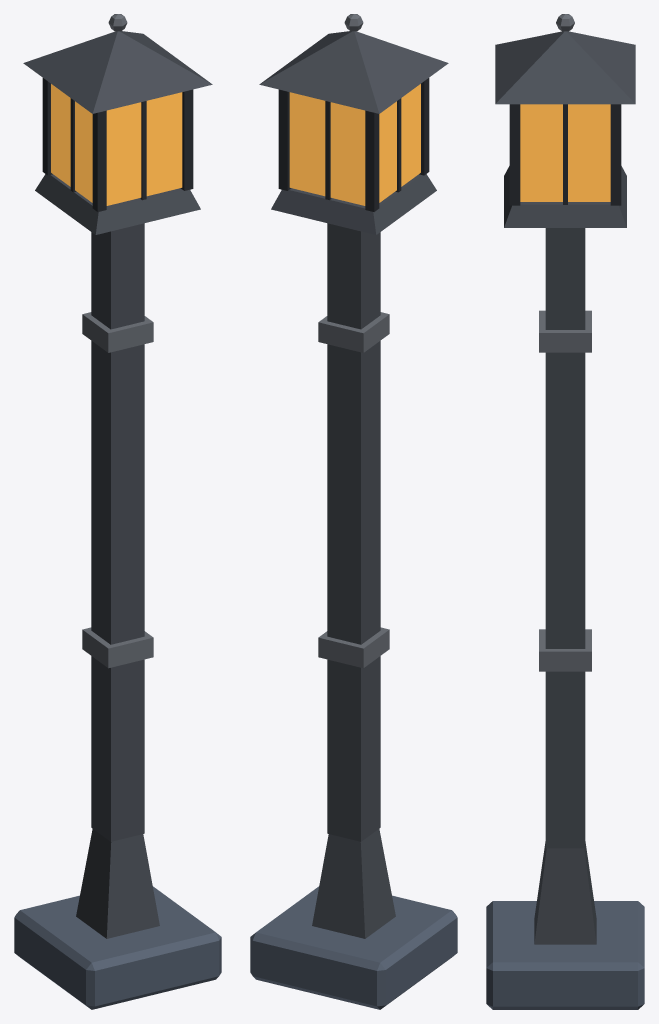
Rendered from lamp_post.glb.
3 views of the same model, side by side, from view 1: azimuth 30°, elevation 25°; view 2: azimuth 150°, elevation 25°; view 3: azimuth 270°, elevation 25° (orthographic).
Visible parts, largest first — view 1: post, lantern_glass; view 2: post, lantern_glass; view 3: post, lantern_glass.
Boxes of the visible parts, x1,y1,x2,y2 form: post: [14, 14, 221, 1009]; lantern_glass: [51, 84, 182, 205]; post: [250, 14, 457, 1009]; lantern_glass: [289, 84, 420, 205]; post: [486, 14, 644, 1009]; lantern_glass: [520, 104, 610, 201].
Bounding box in the file's own units: 0.36 × 2.42 × 0.36.
2 materials, 2 textured.
